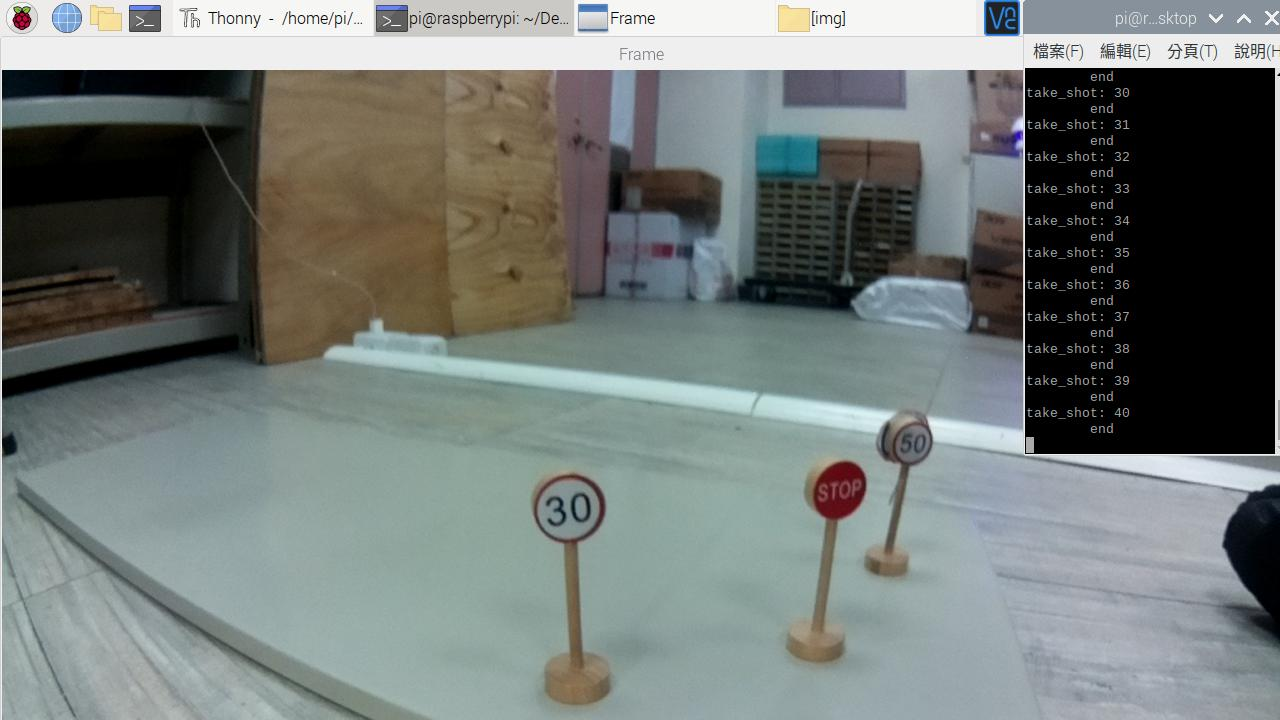Speed30: (532, 477, 605, 544)
Speed50: (892, 417, 931, 468)
Stop: (807, 468, 866, 518)
